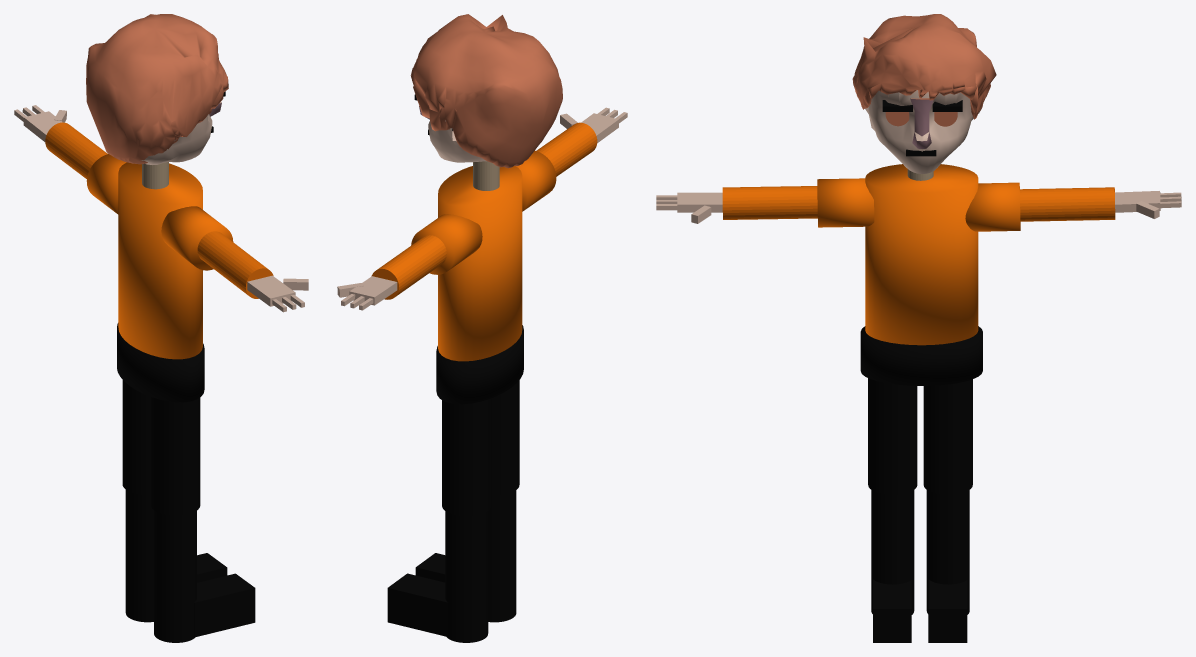
The model's file is Bad Reviewer.fbx.
3 views of the same model, side by side, from view 1: azimuth 30°, elevation 25°; view 2: azimuth 150°, elevation 25°; view 3: azimuth 270°, elevation 25° (orthographic).
Visible parts, largest first — view 1: Bad Reviewer.001; view 2: Bad Reviewer.001; view 3: Bad Reviewer.001.
Boxes of the visible parts, x1=… form: Bad Reviewer.001: x1=14, y1=14, x2=308, y2=642; Bad Reviewer.001: x1=337, y1=14, x2=627, y2=642; Bad Reviewer.001: x1=656, y1=14, x2=1181, y2=642.
Size of the model in its own units: 130 by 533 by 432.
